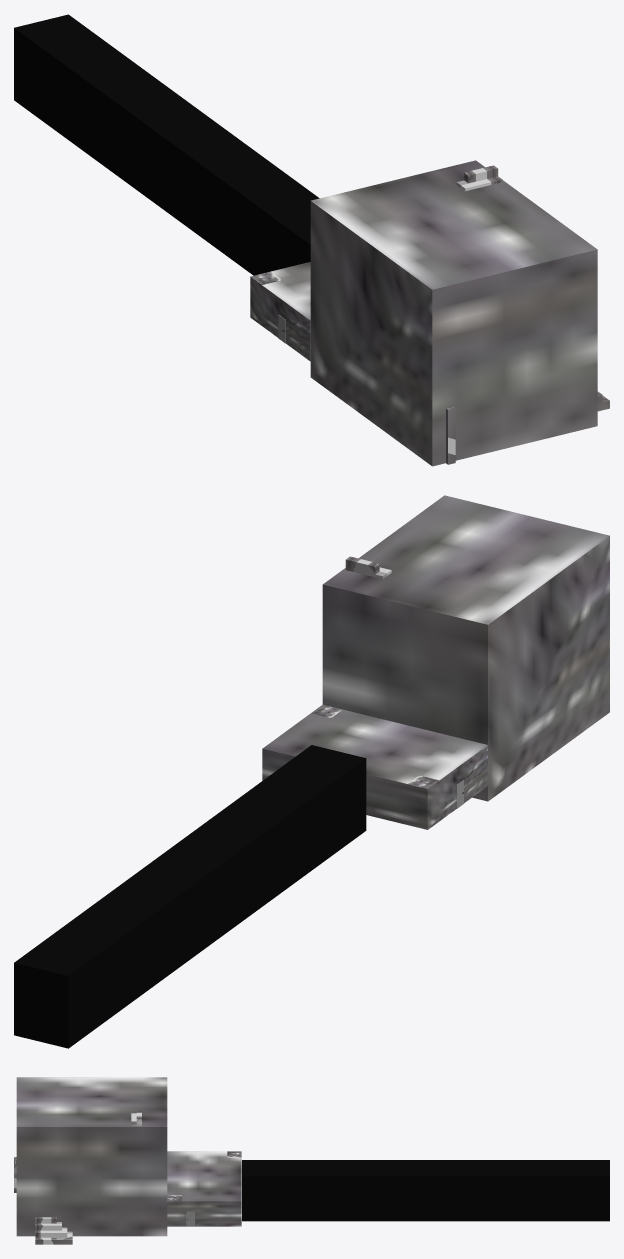
Rendered from salle.fbx.
The picture shows the model from 3 angles, top to bottom: view 1: azimuth 30°, elevation 25°; view 2: azimuth 150°, elevation 25°; view 3: azimuth 270°, elevation 25°; orthographic projection. The views are drawn at different scales.
Visible parts, largest first — view 1: Cube.006, Cube.007, Cube.003, Cube.004; view 2: Cube.006, Cube.007, Cube.003; view 3: Cube.006, Cube.007, Cube.003, Cube.004.
Boxes of the visible parts, box(x1,y1,x2,y2) form: Cube.006: box(310, 160, 597, 466); Cube.007: box(14, 14, 319, 275); Cube.003: box(250, 262, 310, 361); Cube.004: box(446, 165, 609, 464); Cube.006: box(322, 495, 609, 801); Cube.007: box(14, 745, 366, 1048); Cube.003: box(262, 705, 487, 829); Cube.006: box(16, 1077, 167, 1236); Cube.007: box(242, 1160, 609, 1221); Cube.003: box(167, 1151, 241, 1226); Cube.004: box(14, 1111, 141, 1244).
Size of the model in its own units: 1109 by 1023 by 4768.
